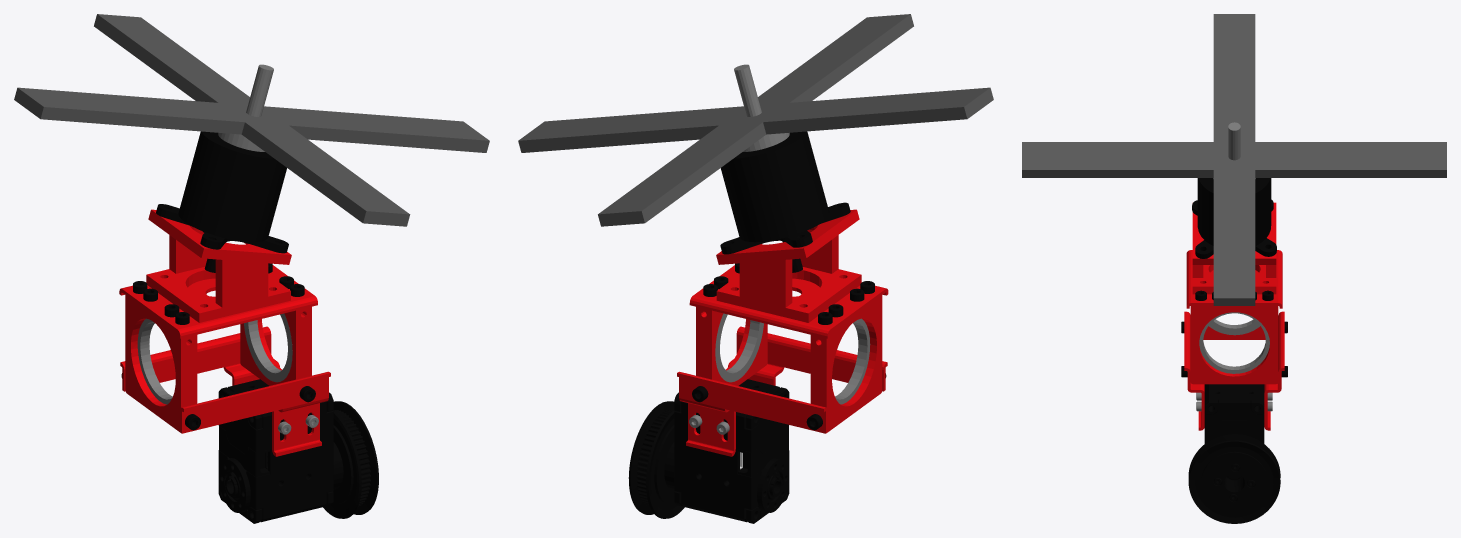
The model's file is roll_gimbal_module.dae.
The picture shows the model from 3 angles, left to right: view 1: azimuth 30°, elevation 25°; view 2: azimuth 150°, elevation 25°; view 3: azimuth 270°, elevation 25°; orthographic projection. The views are drawn at different scales.
Parts seen in each view (by area): view 1: roll_gimbal_module - 8inch_prop_test-1, roll_gimbal_module - t_motor_at2814_asm-1 t_motor_at2814-1, roll_gimbal_module - motor_mount-2, roll_gimbal_module - XL-430_new-1 XL-430_new.stp-1 DC11_A01_ (×2), roll_gimbal_module - gimbal_servo_holder_side-1, roll_gimbal_module - gimbal_servo_pulley_HTPA60S2M040-A-H10_ (×2), roll_gimbal_module - gimbal_roll_holder_PLA-2, roll_gimbal_module - gimbal_upper_plate-1, roll_gimbal_module - gimbal_servo_holder_side_mirror-1, roll_gimbal_module - gimbal_roll_holder_PLA-1, roll_gimbal_module - 6706_handmade-1, roll_gimbal_module - t_motor_at2814_asm-1 t_motor_at2814_sha (+3 smaller); view 2: roll_gimbal_module - 8inch_prop_test-1, roll_gimbal_module - t_motor_at2814_asm-1 t_motor_at2814-1, roll_gimbal_module - motor_mount-2, roll_gimbal_module - XL-430_new-1 XL-430_new.stp-1 DC11_A01_ (×2), roll_gimbal_module - gimbal_servo_holder_side_mirror-1, roll_gimbal_module - gimbal_servo_pulley_HTPA60S2M040-A-H10_ (×2), roll_gimbal_module - gimbal_roll_holder_PLA-2, roll_gimbal_module - gimbal_upper_plate-1, roll_gimbal_module - gimbal_servo_holder_side-1, roll_gimbal_module - gimbal_roll_holder_PLA-1, roll_gimbal_module - 6706_handmade-1, roll_gimbal_module - t_motor_at2814_asm-1 t_motor_at2814_sha (+3 smaller); view 3: roll_gimbal_module - 8inch_prop_test-1, roll_gimbal_module - gimbal_servo_pulley_HTPA60S2M040-A-H10_ (×2), roll_gimbal_module - gimbal_roll_holder_PLA-1, roll_gimbal_module - XL-430_new-1 XL-430_new.stp-1 DC11_A01_, roll_gimbal_module - motor_mount-2, roll_gimbal_module - t_motor_at2814_asm-1 t_motor_at2814-1, roll_gimbal_module - gimbal_upper_plate-1, roll_gimbal_module - 6706_handmade-1, roll_gimbal_module - gimbal_servo_holder_side-1, roll_gimbal_module - gimbal_servo_holder_side_mirror-1, roll_gimbal_module - t_motor_at2814_asm-1 t_motor_at2814_mou, roll_gimbal_module - 6706_handmade-2 (+1 smaller).
Part boxes in pixels (box(x1,y1,x2,y2)): roll_gimbal_module - 8inch_prop_test-1: box(14, 14, 489, 226); roll_gimbal_module - t_motor_at2814_asm-1 t_motor_at2814-1: box(178, 131, 286, 272); roll_gimbal_module - motor_mount-2: box(146, 209, 291, 322); roll_gimbal_module - XL-430_new-1 XL-430_new.stp-1 DC11_A01_ (×2): box(218, 379, 333, 522); roll_gimbal_module - gimbal_servo_holder_side-1: box(180, 371, 330, 456); roll_gimbal_module - gimbal_servo_pulley_HTPA60S2M040-A-H10_ (×2): box(323, 401, 378, 518); roll_gimbal_module - gimbal_roll_holder_PLA-2: box(125, 295, 197, 431); roll_gimbal_module - gimbal_upper_plate-1: box(119, 265, 317, 338); roll_gimbal_module - gimbal_servo_holder_side_mirror-1: box(120, 326, 279, 391); roll_gimbal_module - gimbal_roll_holder_PLA-1: box(240, 306, 311, 385); roll_gimbal_module - 6706_handmade-1: box(244, 313, 292, 382); roll_gimbal_module - t_motor_at2814_asm-1 t_motor_at2814_sha: box(218, 64, 273, 151); roll_gimbal_module - 8inch_prop_test-1: box(518, 14, 993, 226); roll_gimbal_module - t_motor_at2814_asm-1 t_motor_at2814-1: box(720, 131, 829, 272); roll_gimbal_module - motor_mount-2: box(716, 209, 861, 322); roll_gimbal_module - XL-430_new-1 XL-430_new.stp-1 DC11_A01_ (×2): box(674, 379, 789, 522); roll_gimbal_module - gimbal_servo_holder_side_mirror-1: box(677, 371, 827, 456); roll_gimbal_module - gimbal_servo_pulley_HTPA60S2M040-A-H10_ (×2): box(628, 401, 684, 518); roll_gimbal_module - gimbal_roll_holder_PLA-2: box(810, 295, 882, 431); roll_gimbal_module - gimbal_upper_plate-1: box(689, 265, 888, 338); roll_gimbal_module - gimbal_servo_holder_side-1: box(728, 326, 887, 391); roll_gimbal_module - gimbal_roll_holder_PLA-1: box(696, 307, 767, 385); roll_gimbal_module - 6706_handmade-1: box(715, 313, 763, 382); roll_gimbal_module - t_motor_at2814_asm-1 t_motor_at2814_sha: box(734, 64, 789, 151); roll_gimbal_module - 8inch_prop_test-1: box(1022, 14, 1446, 305); roll_gimbal_module - gimbal_servo_pulley_HTPA60S2M040-A-H10_ (×2): box(1188, 434, 1280, 523); roll_gimbal_module - gimbal_roll_holder_PLA-1: box(1190, 306, 1278, 384); roll_gimbal_module - XL-430_new-1 XL-430_new.stp-1 DC11_A01_: box(1204, 384, 1264, 480); roll_gimbal_module - motor_mount-2: box(1192, 202, 1276, 294); roll_gimbal_module - t_motor_at2814_asm-1 t_motor_at2814-1: box(1197, 178, 1271, 245); roll_gimbal_module - gimbal_upper_plate-1: box(1186, 250, 1282, 308); roll_gimbal_module - 6706_handmade-1: box(1199, 312, 1269, 373); roll_gimbal_module - gimbal_servo_holder_side-1: box(1184, 311, 1204, 430); roll_gimbal_module - gimbal_servo_holder_side_mirror-1: box(1264, 311, 1284, 430); roll_gimbal_module - t_motor_at2814_asm-1 t_motor_at2814_mou: box(1192, 199, 1276, 258); roll_gimbal_module - 6706_handmade-2: box(1209, 319, 1260, 335).
Size of the model in its own units: 196 by 203 by 204.
